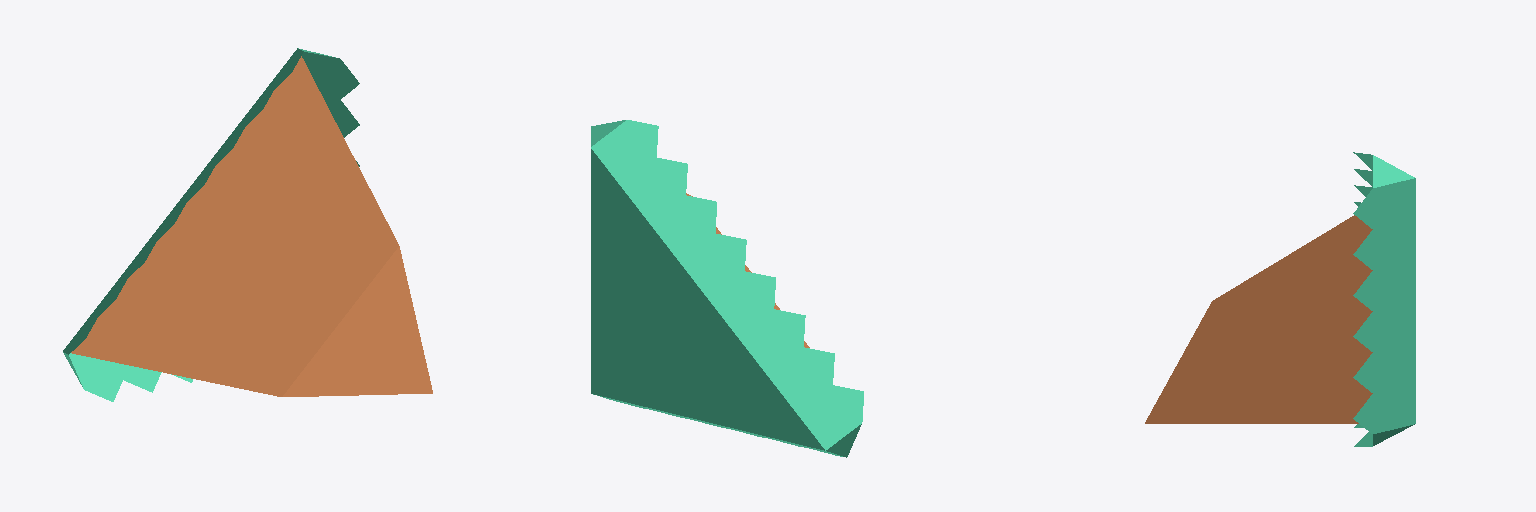
Rendered from blockCliffCorner.obj.
3 renders of one model, left to right at view 1: azimuth 30°, elevation 25°; view 2: azimuth 150°, elevation 25°; view 3: azimuth 270°, elevation 25°, orthographic.
Visible parts, largest first — view 1: blockCliffCorner; view 2: blockCliffCorner; view 3: blockCliffCorner.
Boxes of the visible parts, x1=… form: blockCliffCorner: x1=63, y1=48, x2=432, y2=401; blockCliffCorner: x1=591, y1=120, x2=863, y2=457; blockCliffCorner: x1=1145, y1=152, x2=1415, y2=446.
Bounding box in the file's own units: 1.2 × 1.2 × 1.